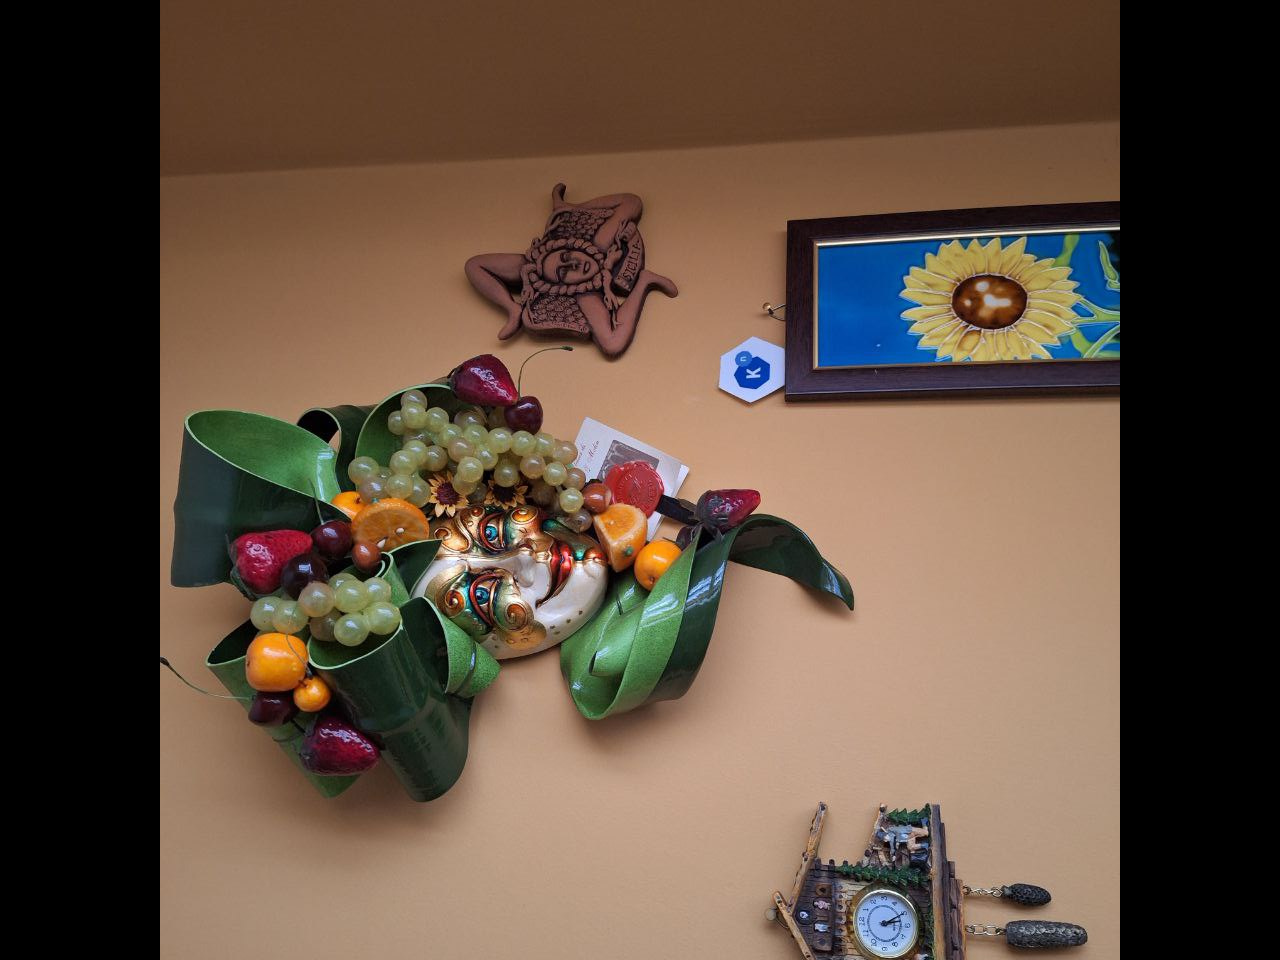knative: (729, 350, 772, 389)
